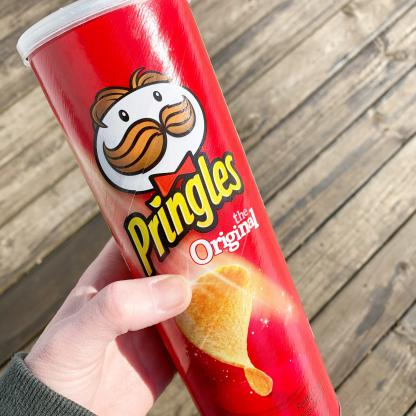potatochip: (12, 0, 348, 415)
